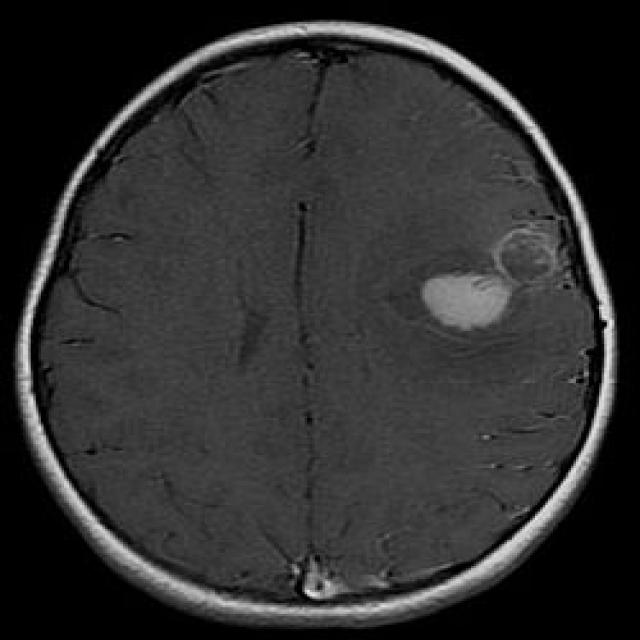Tumor-Cell: (410, 212, 560, 358)
